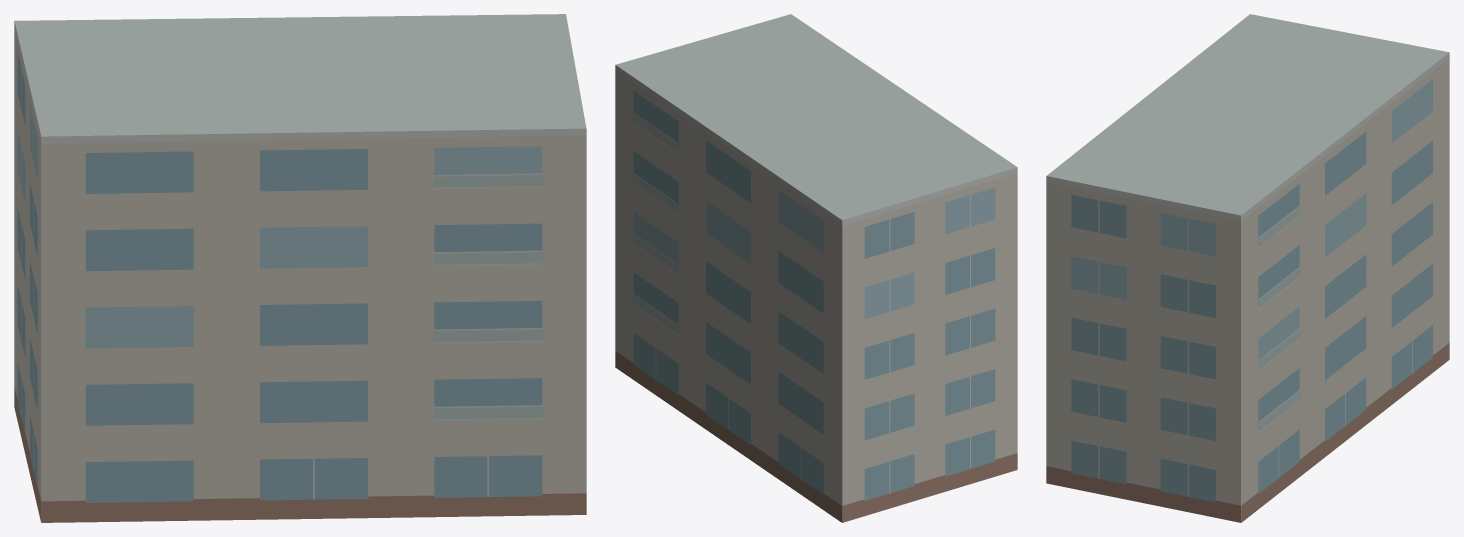
File: survey-upis-33009754.glb
3 views of the same model, side by side, from view 1: azimuth 30°, elevation 25°; view 2: azimuth 150°, elevation 25°; view 3: azimuth 270°, elevation 25° (orthographic). The views are drawn at different scales.
Parts seen in each view (by area): view 1: survey-upis-33009754.tmp; view 2: survey-upis-33009754.tmp; view 3: survey-upis-33009754.tmp.
Part boxes in pixels (left/top/right/bottom): survey-upis-33009754.tmp: left=14, top=14, right=586, bottom=522; survey-upis-33009754.tmp: left=615, top=14, right=1017, bottom=522; survey-upis-33009754.tmp: left=1046, top=14, right=1449, bottom=522.
Bounding box in the file's own units: 18.85 × 13.4 × 15.94.
